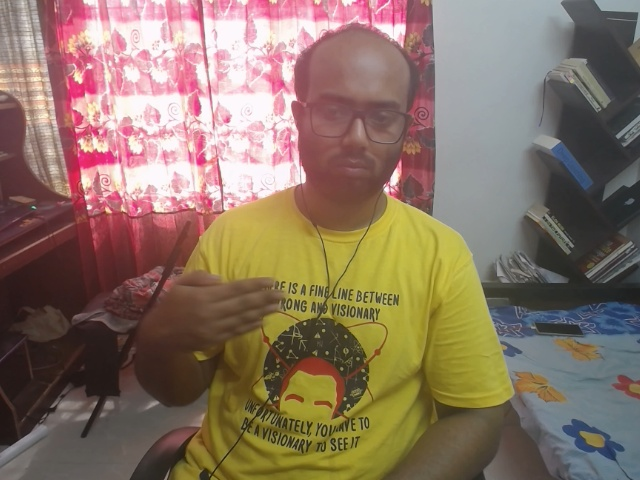north: (137, 260, 309, 372)
